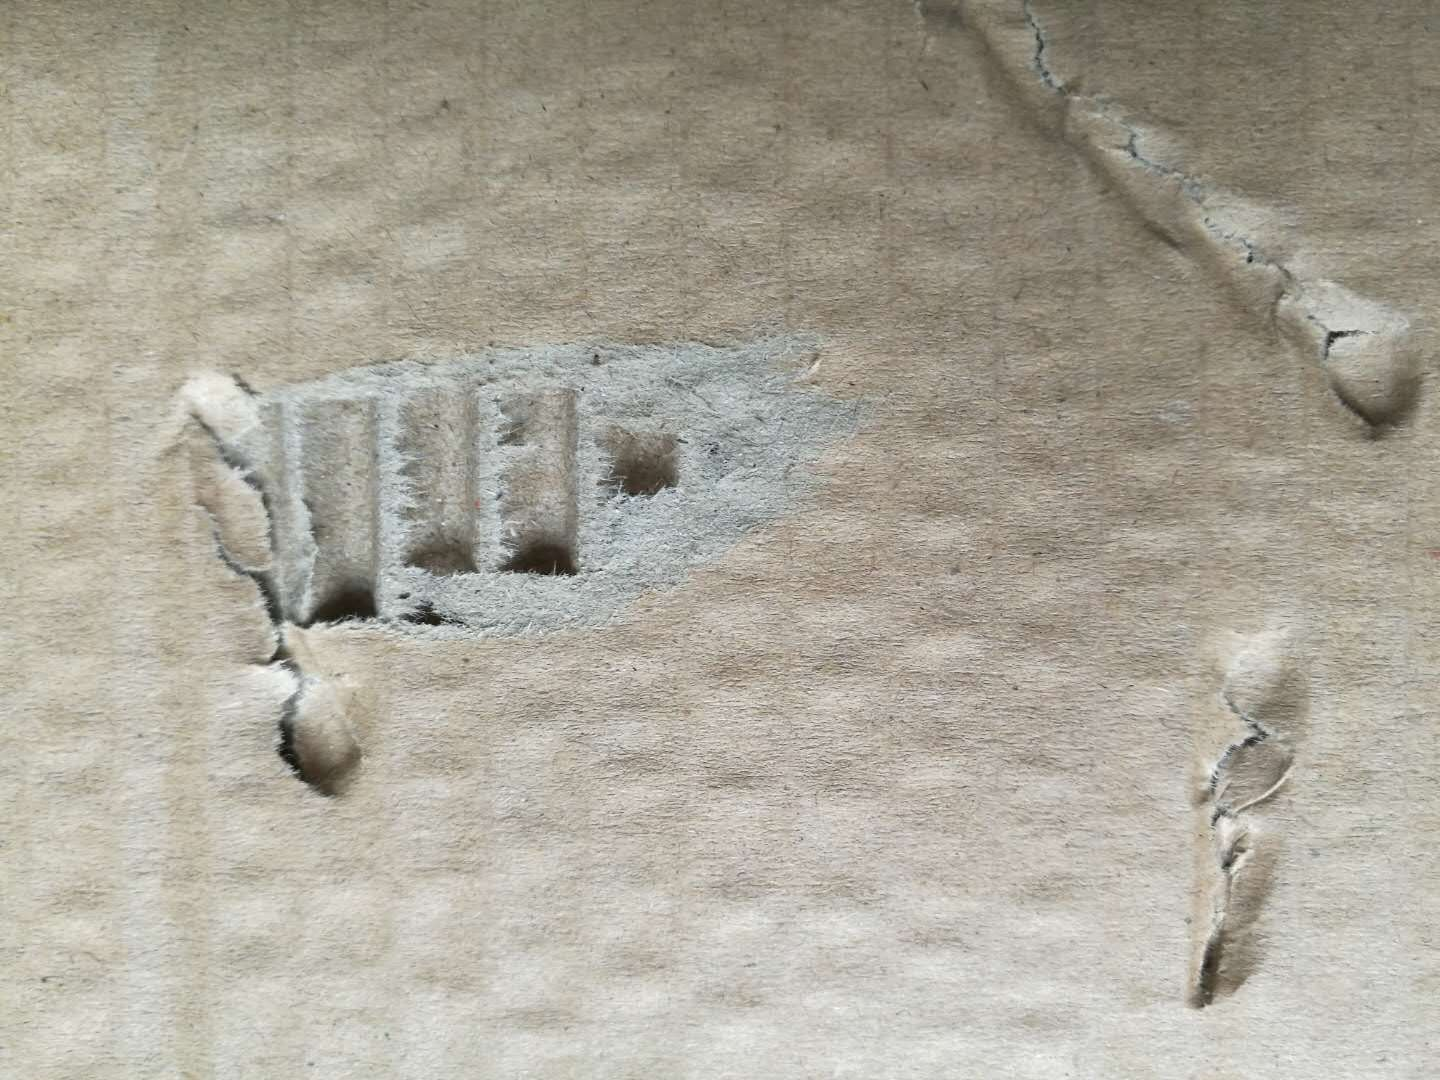defect: (127, 293, 942, 829), (908, 5, 1440, 476), (1136, 585, 1358, 1036)
